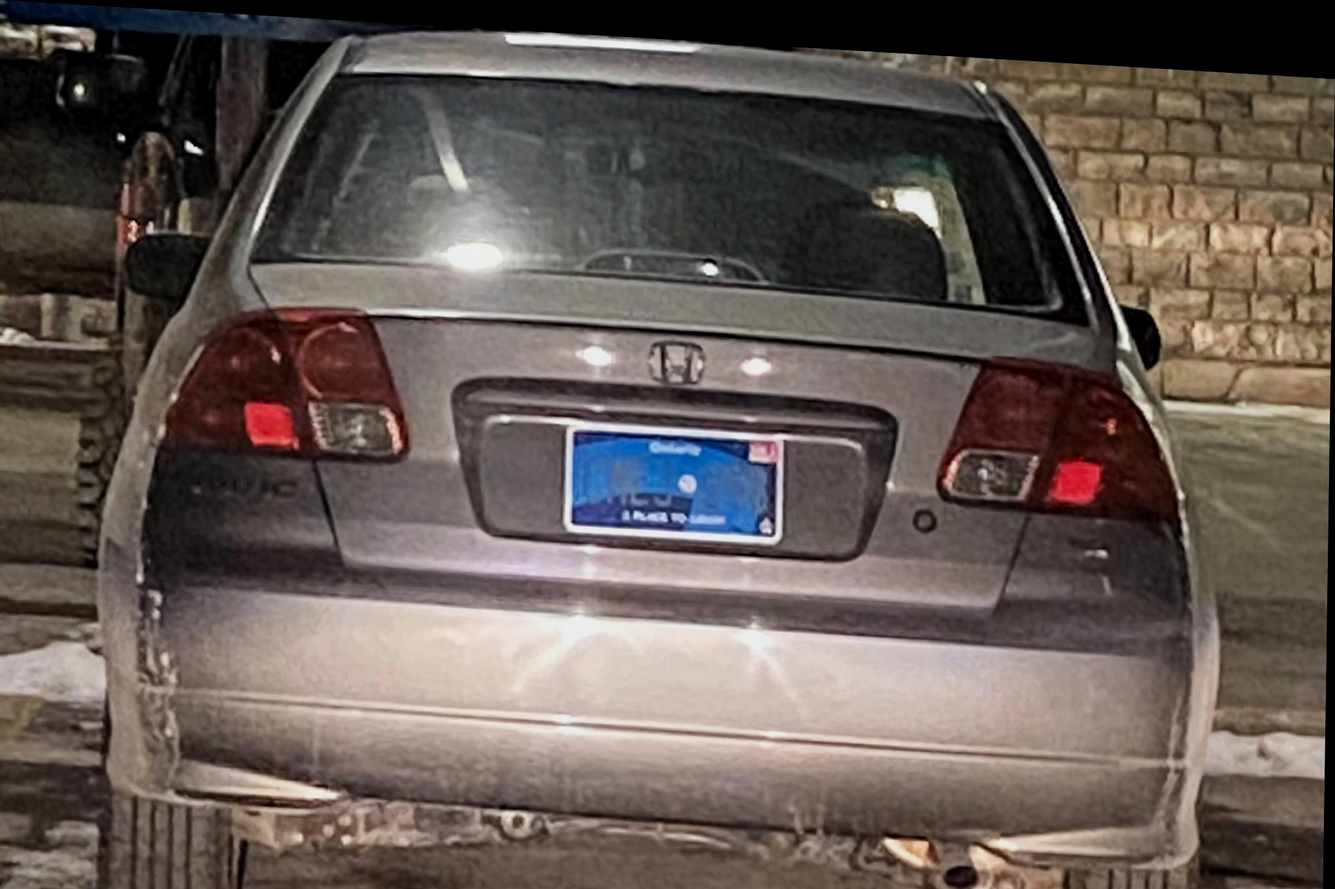License_Plate: (549, 416, 802, 556)
